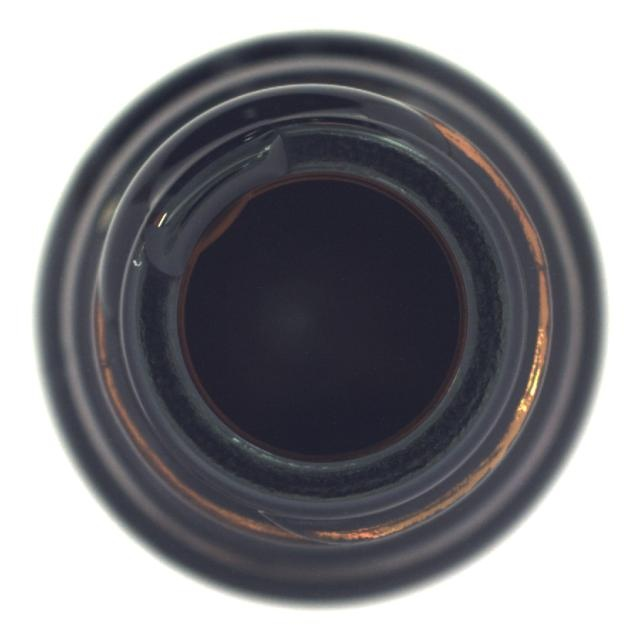bad-contamination: (34, 28, 607, 612)
